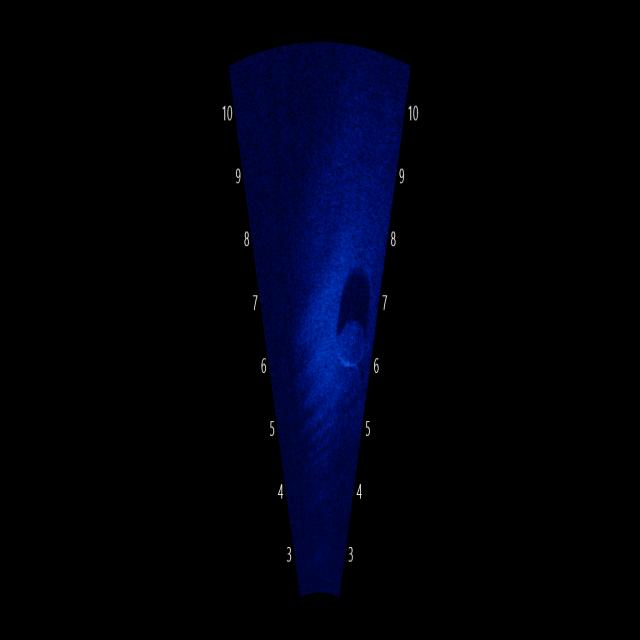circle: (330, 283, 378, 384)
